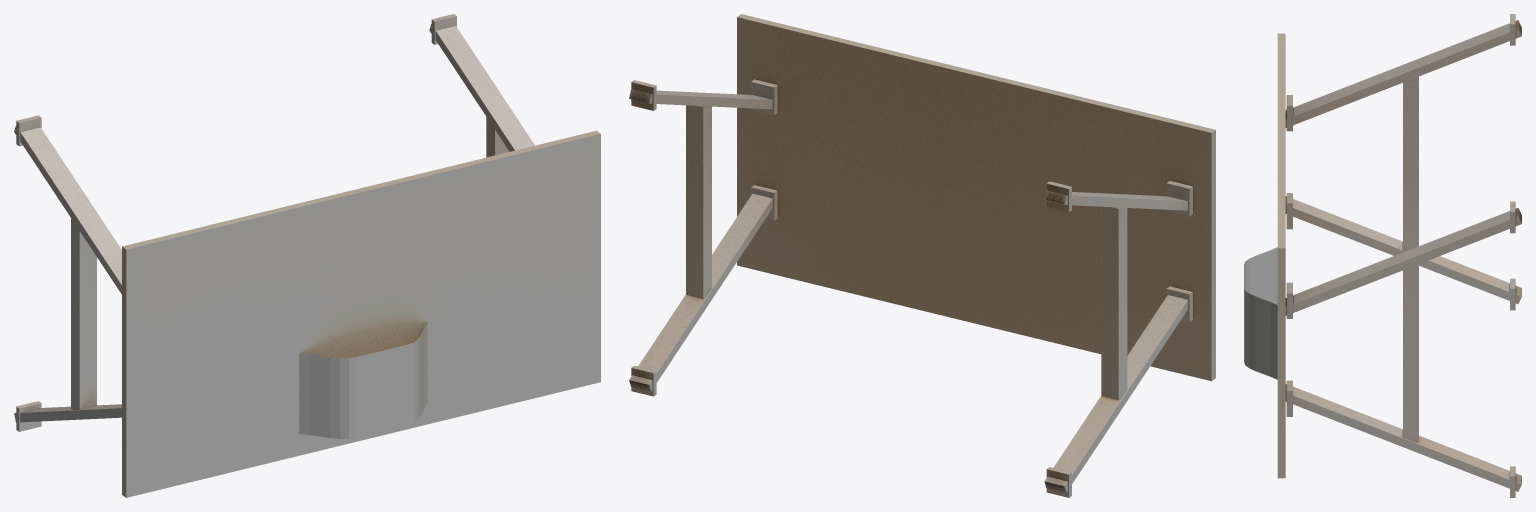
File: E1_desk_final.obj
3 views of the same model, side by side, from view 1: azimuth 30°, elevation 25°; view 2: azimuth 150°, elevation 25°; view 3: azimuth 270°, elevation 25° (orthographic). The views are drawn at different scales.
Parts seen in each view (by area): view 1: E1_desk_final.001; view 2: E1_desk_final.001; view 3: E1_desk_final.001.
Part boxes in pixels (box(x1,y1,x2,y2)): E1_desk_final.001: box(14, 14, 600, 497); E1_desk_final.001: box(629, 14, 1215, 497); E1_desk_final.001: box(1244, 14, 1521, 497).
Size of the model in its own units: 1.6 by 0.995 by 0.8755.
Materials: 1 (1 with a texture image).
